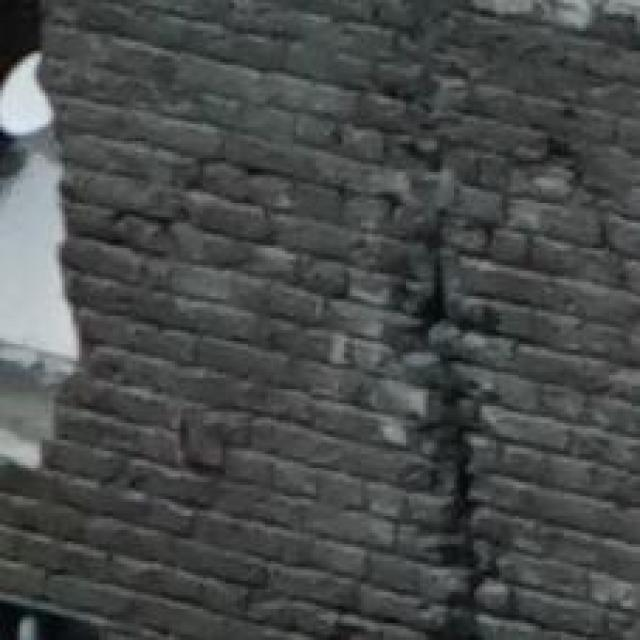Crack: (367, 183, 527, 640)
